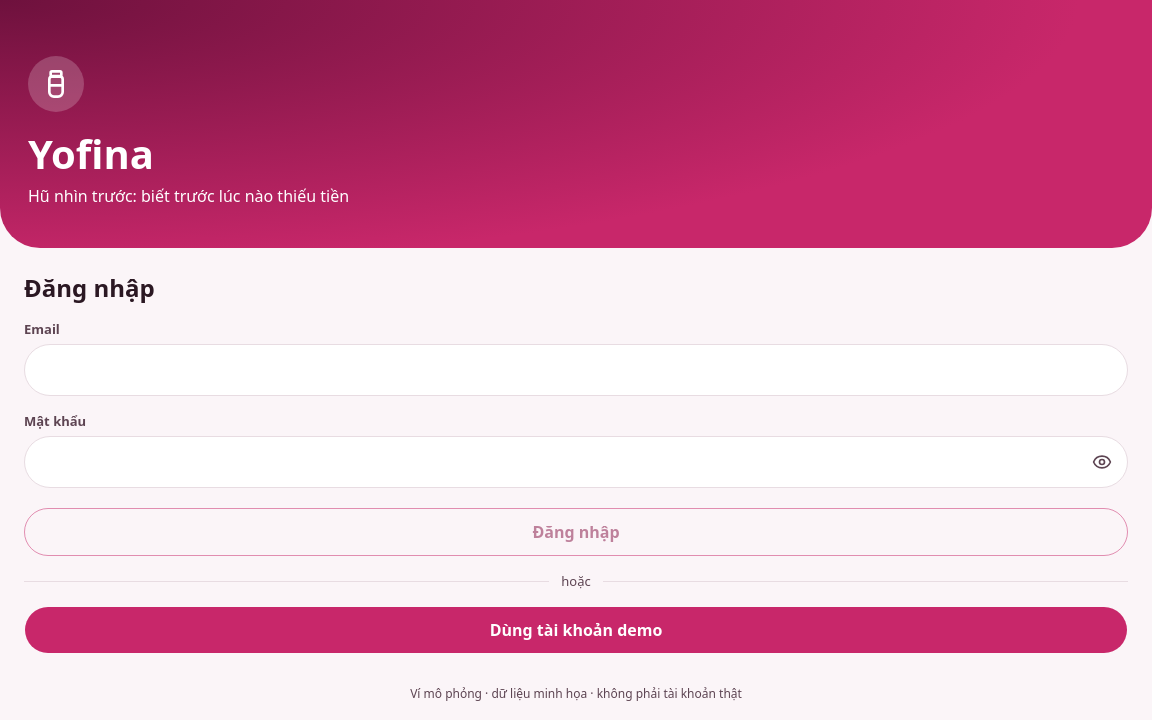
Test: màn Đăng nhập › "Dùng tài khoản demo" chỉ điền sẵn email demo từ cấu hình và đưa con trỏ vào ô mật khẩu
Click the button "Dùng tài khoản demo" at (576, 630), box [24,606,1128,654]
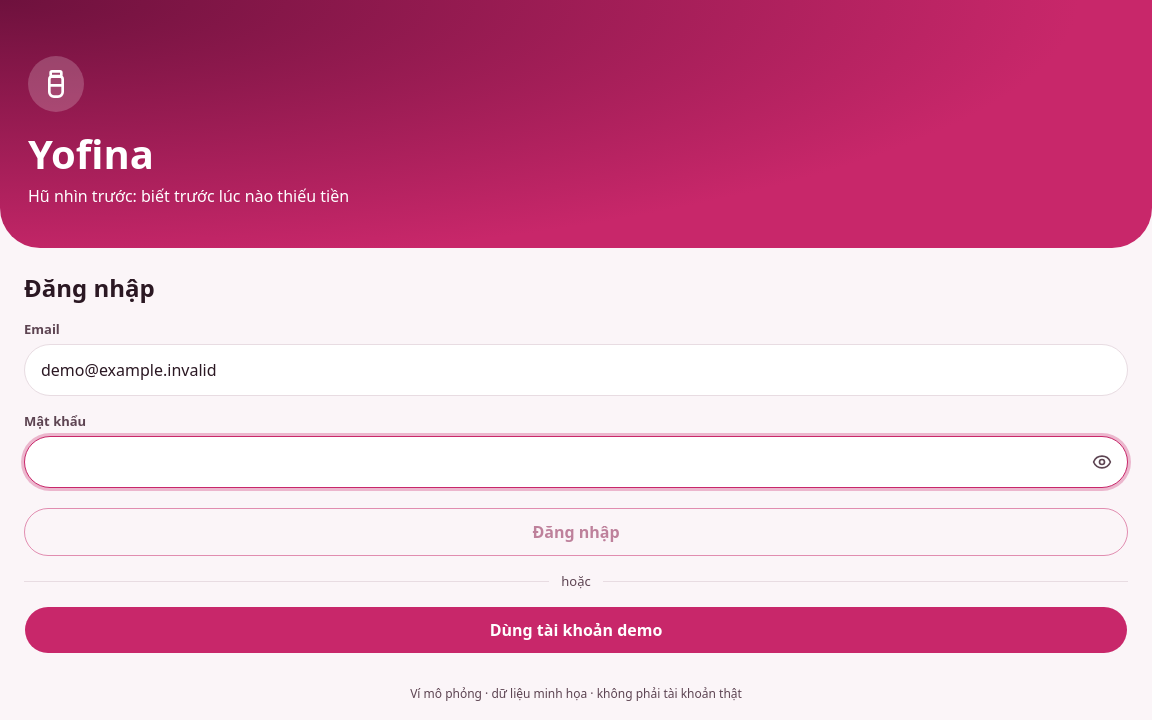
Expected: the password field labelled "Mật khẩu" is empty, [24,436,1128,488]
Now the field labelled "Email" holds "demo@example.invalid", box [24,344,1128,396]
